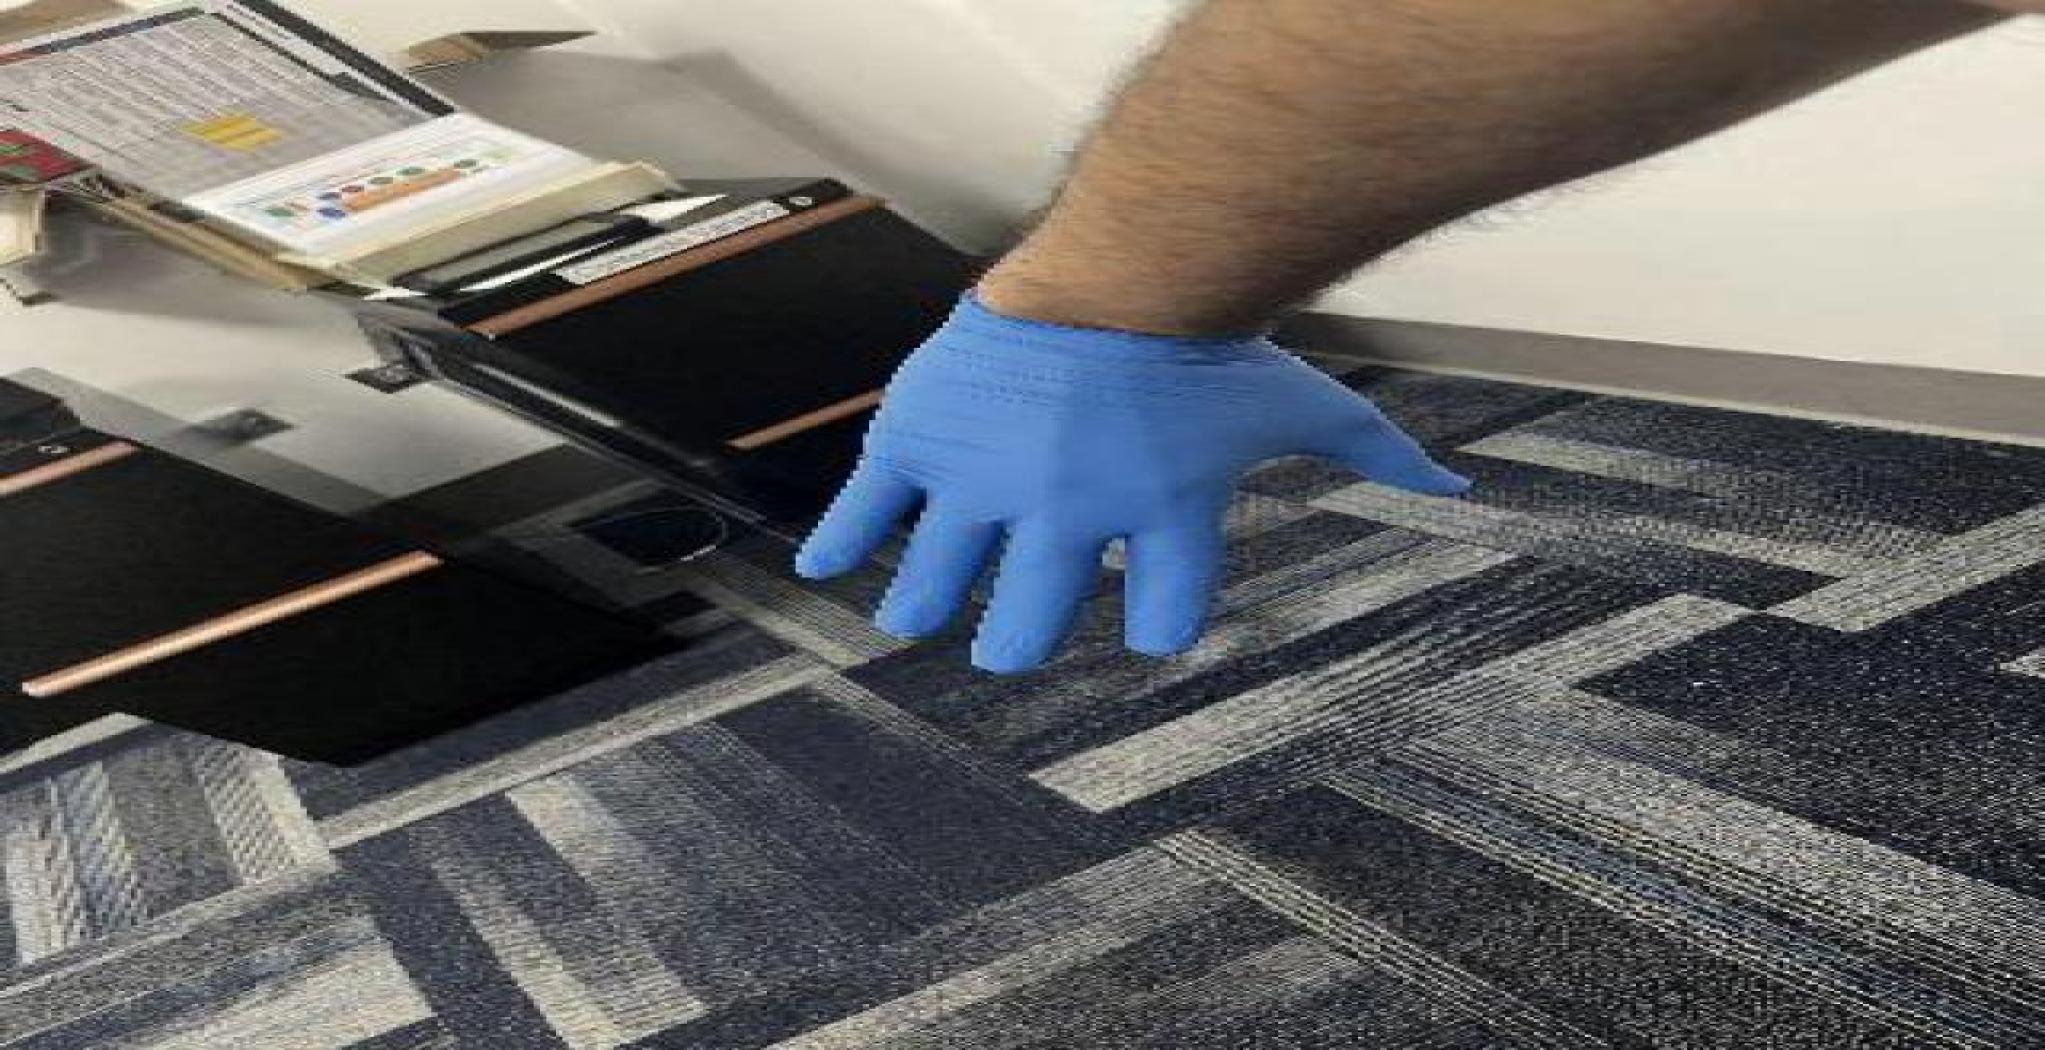gloved: (786, 290, 1473, 676)
